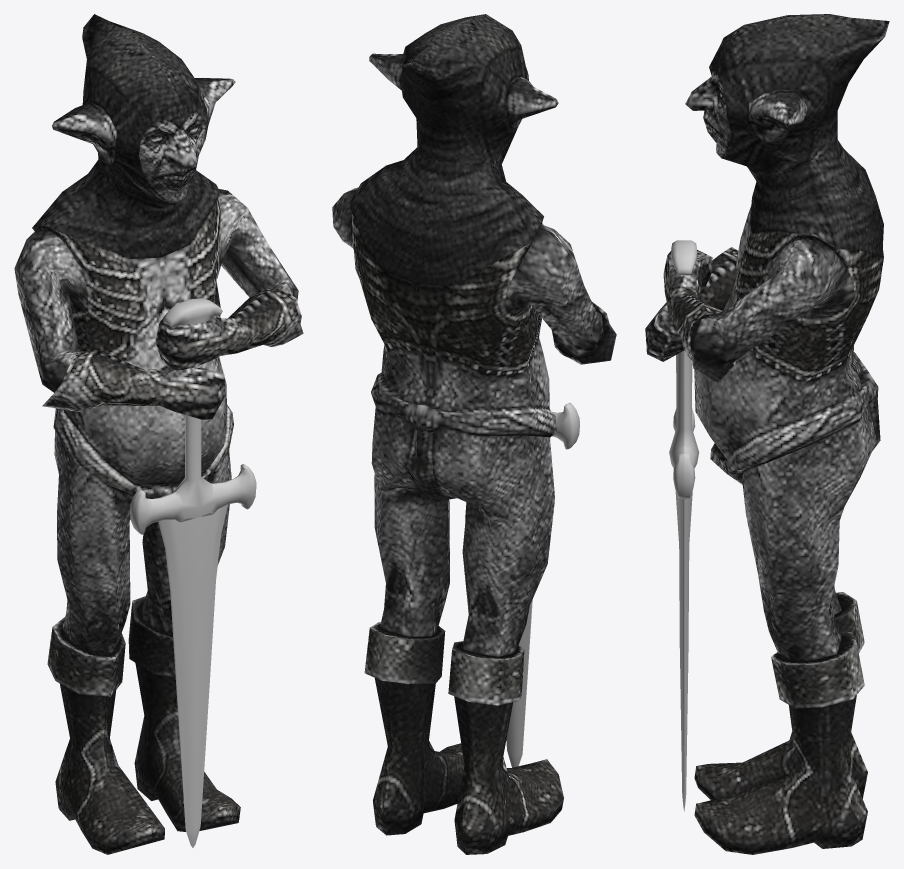
File: Goblin_Ranger_suk_A.FBX
The picture shows the model from 3 angles, left to right: view 1: azimuth 30°, elevation 25°; view 2: azimuth 150°, elevation 25°; view 3: azimuth 270°, elevation 25°; orthographic projection. The views are drawn at different scales.
Parts seen in each view (by area): view 1: mesh (×2); view 2: mesh (×2); view 3: mesh (×2).
Boxes of the visible parts, x1,y1,x2,y2 form: mesh (×2): (14,14,303,854); mesh (×2): (332,14,616,854); mesh (×2): (645,14,889,854).
Bounding box in the file's own units: 0.5026 × 1.51 × 0.4149.
